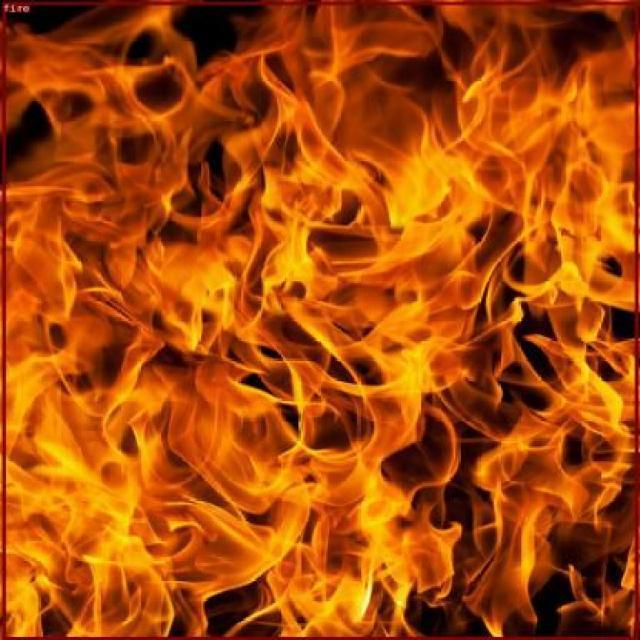Fire: (319, 320, 636, 637)
